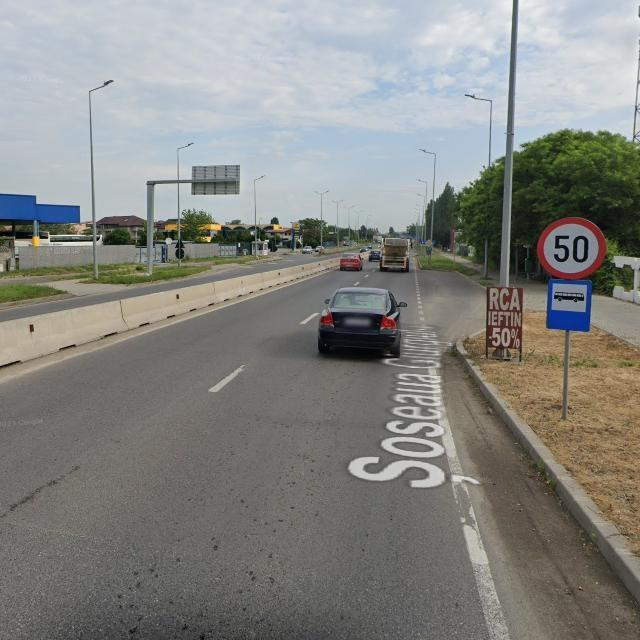forb_speed_over_50: (539, 216, 606, 280)
